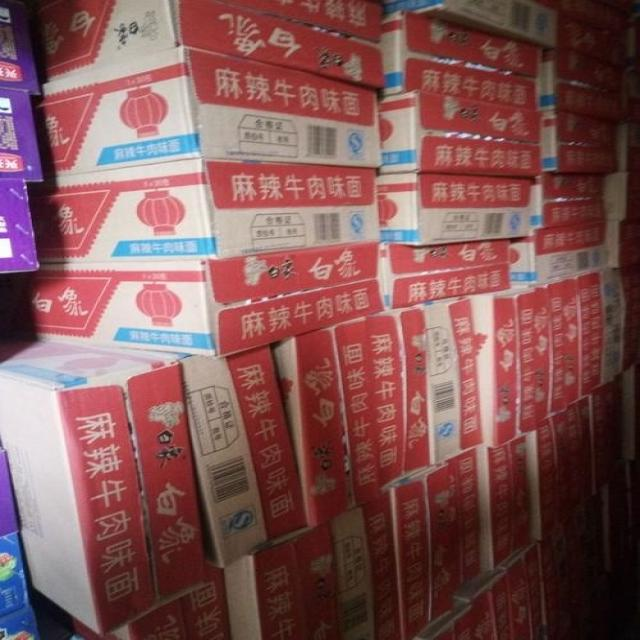box: (18, 337, 306, 567), (1, 338, 206, 637), (30, 46, 384, 175), (3, 241, 388, 357), (24, 157, 382, 261), (24, 1, 384, 89), (272, 318, 383, 528), (376, 11, 543, 109), (375, 90, 540, 175), (227, 521, 344, 639), (381, 463, 456, 639), (364, 303, 431, 488), (74, 561, 232, 639), (375, 171, 531, 246), (331, 487, 404, 639), (474, 283, 537, 449), (423, 294, 483, 466), (381, 238, 510, 311), (382, 0, 559, 49), (476, 436, 530, 571), (566, 260, 618, 397), (536, 275, 581, 425), (524, 410, 574, 543), (508, 220, 610, 285), (438, 450, 483, 589), (541, 48, 623, 116), (538, 109, 621, 173), (496, 541, 548, 639), (542, 515, 582, 639), (566, 388, 604, 514), (527, 171, 607, 227), (455, 568, 514, 638), (575, 484, 606, 616), (600, 374, 626, 483), (416, 596, 476, 639)
